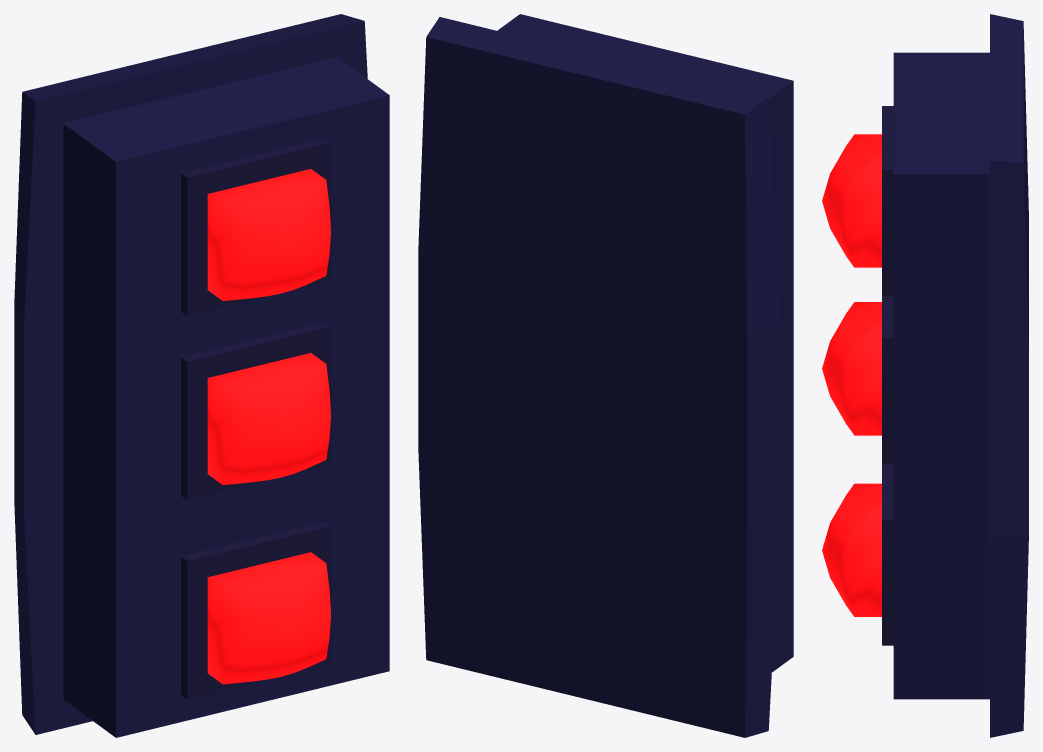
Rendered from Terminal.glb.
3 views of the same model, side by side, from view 1: azimuth 30°, elevation 25°; view 2: azimuth 150°, elevation 25°; view 3: azimuth 270°, elevation 25° (orthographic). The views are drawn at different scales.
Visible parts, largest first — view 1: Terminal, Button.002, Button, Button.001, Button frame.001, Button frame.002, Button frame; view 2: Terminal; view 3: Terminal, Button.002, Button, Button.001, Button frame, Button frame.002, Button frame.001.
Boxes of the visible parts, x1,y1,x2,y2 form: Terminal: (14,14,389,737); Button.002: (207,552,330,684); Button: (207,169,330,300); Button.001: (207,353,330,484); Button frame.001: (181,322,331,500); Button frame.002: (181,521,331,699); Button frame: (181,138,331,316); Terminal: (418,14,793,737); Terminal: (893,14,1028,737); Button.002: (822,483,881,616); Button: (822,134,881,267); Button.001: (822,302,881,435); Button frame: (882,106,893,296); Button frame.002: (882,464,893,645); Button frame.001: (882,296,893,463).
Size of the model in its own units: 0.2378 by 0.4091 by 0.1328.
